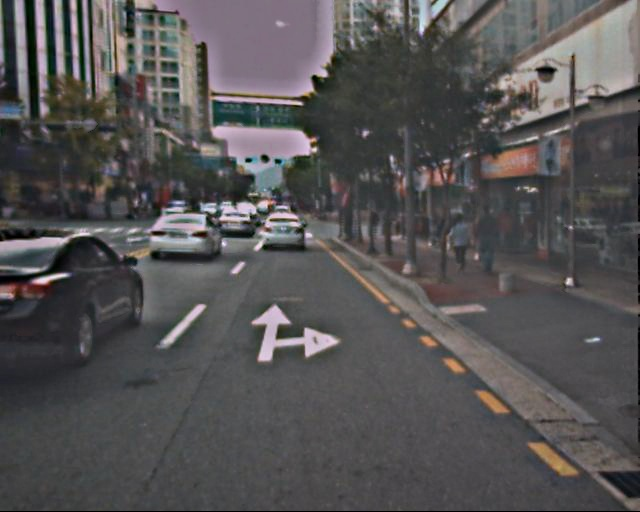person: (472, 206, 499, 273), (448, 212, 473, 274)
